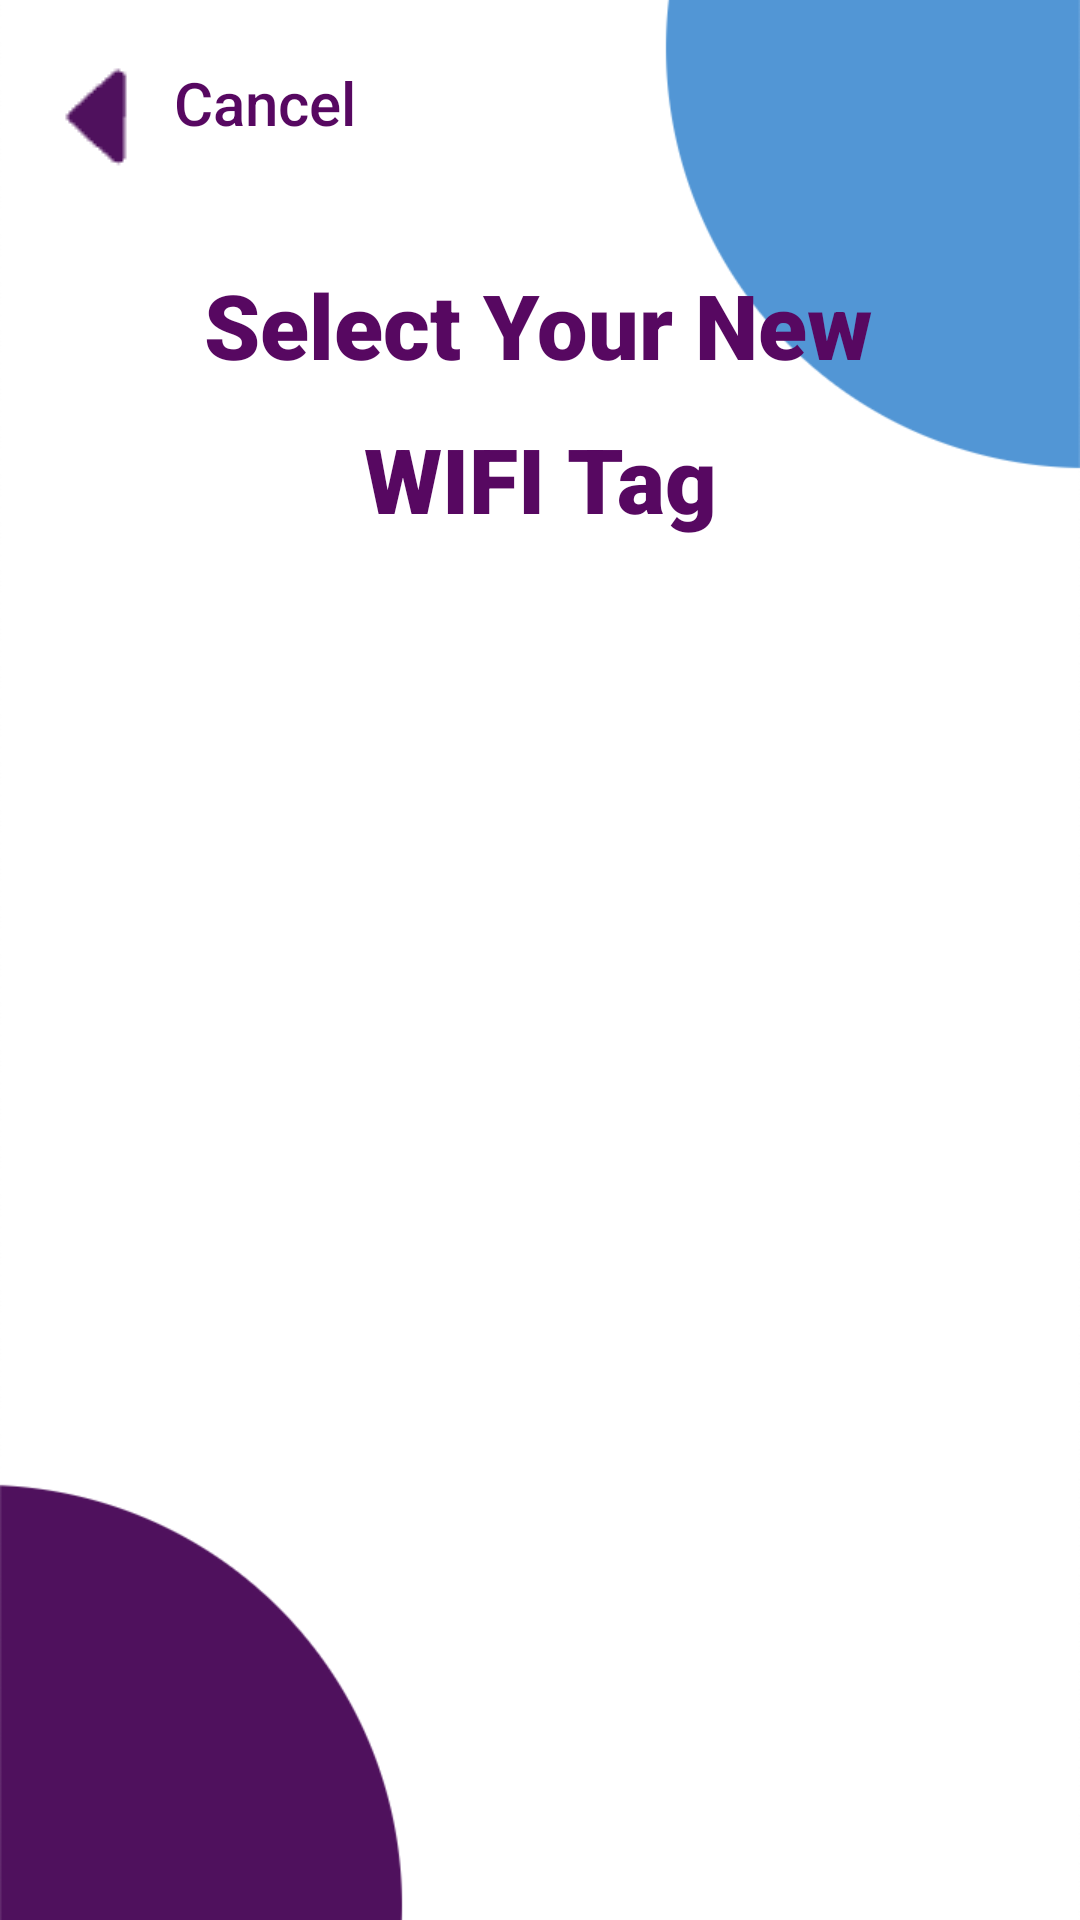

Icon bounding boxes for this 1080 × 1920 phone screenshot, format (x1, y1, x2, y2):
previous: (65, 68, 127, 165)
